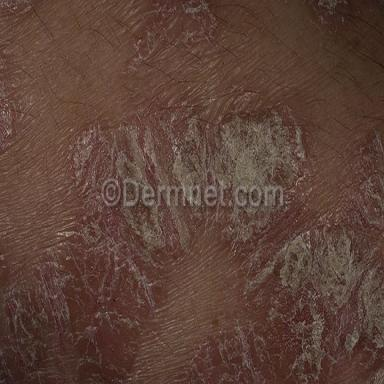Psoriasis: (3, 1, 384, 384)
